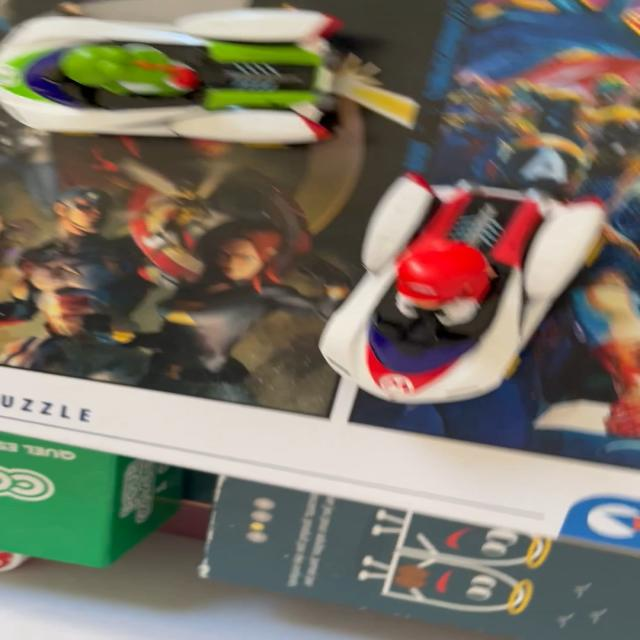mario: (296, 163, 620, 420)
yoshi: (2, 2, 444, 167)
